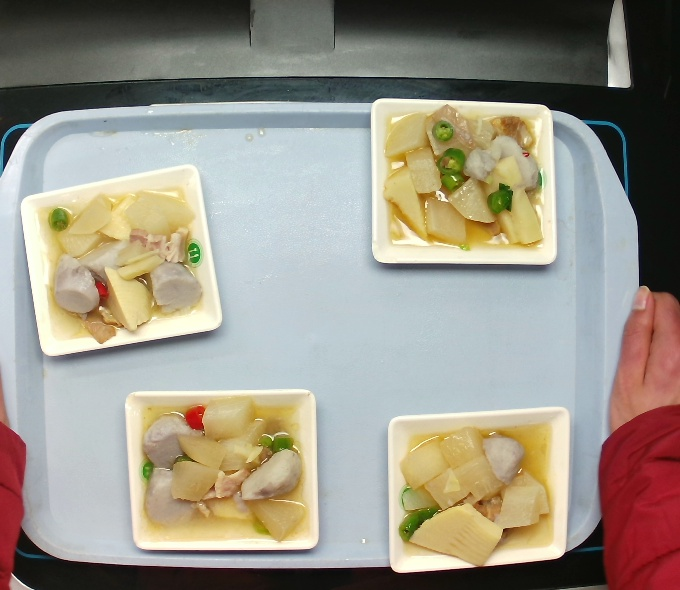wcq-YangYuChunSunDunLuoBo: (32, 183, 206, 349), (126, 389, 307, 542), (376, 102, 547, 257), (387, 420, 557, 569)
